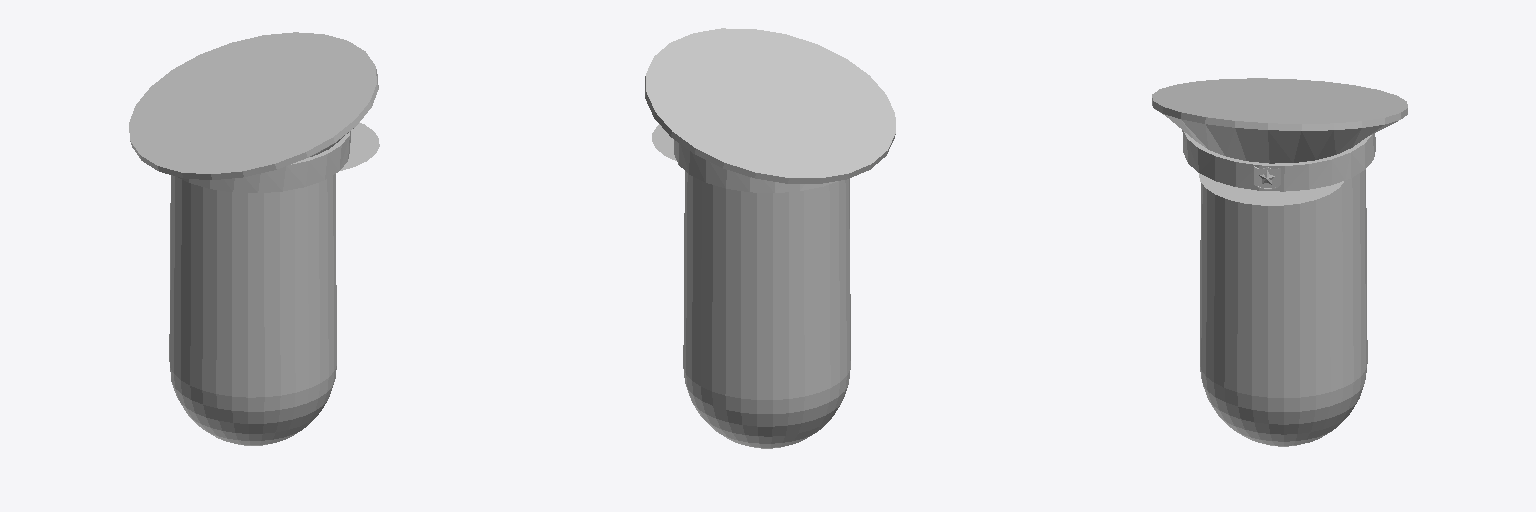
Rendered from Enemy.obj.
The picture shows the model from 3 angles: view 1: azimuth 30°, elevation 25°; view 2: azimuth 150°, elevation 25°; view 3: azimuth 270°, elevation 25°; orthographic projection.
Visible parts, largest first — view 1: Sphere.001, SketchUp_ID149, SketchUp.001_ID161, SketchUp.006_ID209; view 2: Sphere.001, SketchUp_ID149, SketchUp.001_ID161; view 3: Sphere.001, SketchUp_ID149, SketchUp.001_ID161, SketchUp.006_ID209.
Boxes of the visible parts, x1=… form: Sphere.001: x1=169, y1=174, x2=336, y2=445; SketchUp_ID149: x1=129, y1=32, x2=378, y2=179; SketchUp.001_ID161: x1=178, y1=131, x2=350, y2=192; SketchUp.006_ID209: x1=340, y1=122, x2=379, y2=170; Sphere.001: x1=683, y1=171, x2=850, y2=448; SketchUp_ID149: x1=645, y1=28, x2=895, y2=183; SketchUp.001_ID161: x1=674, y1=140, x2=837, y2=192; Sphere.001: x1=1200, y1=170, x2=1367, y2=446; SketchUp_ID149: x1=1152, y1=78, x2=1407, y2=163; SketchUp.001_ID161: x1=1182, y1=130, x2=1375, y2=191; SketchUp.006_ID209: x1=1199, y1=173, x2=1343, y2=205.
Bounding box in the file's own units: 3.02 × 4.82 × 3.05.